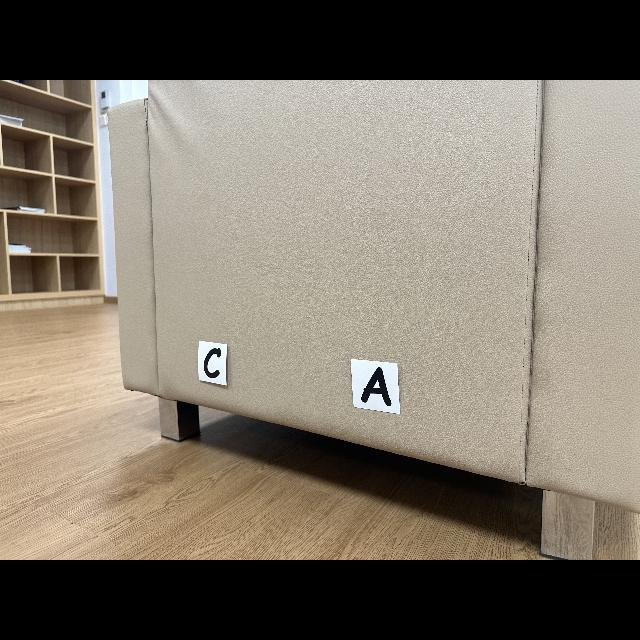A: (361, 368, 391, 406)
C: (204, 349, 221, 379)
